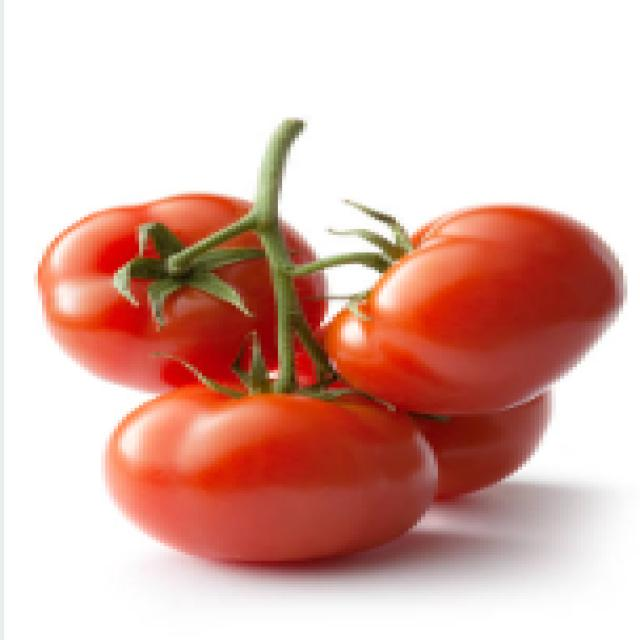Tomato: (64, 182, 354, 402)
